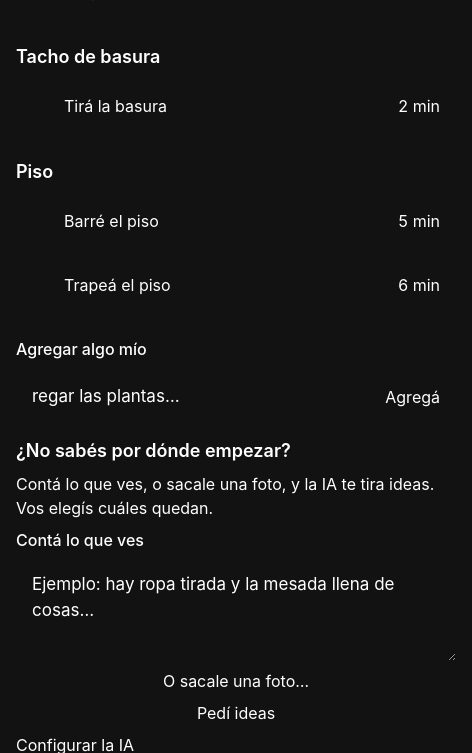
si guardar la tarea propia falla, lo escrito queda y el aviso va pegado al campo
(page scrolled)
Type "Regar las plantas" into the field labelled "Agregar algo mío" at (189, 397), box [16, 369, 361, 425]
Then press Enter
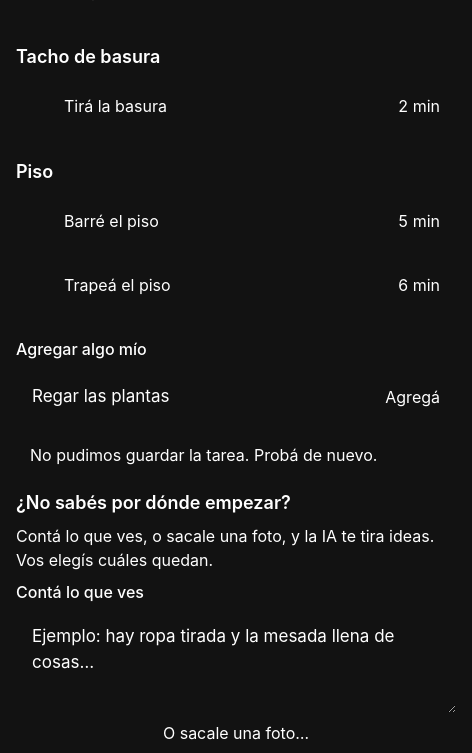
expect the text "No pudimos guardar la tarea. Probá de nuevo." is shown: met, box [30, 445, 377, 465]
